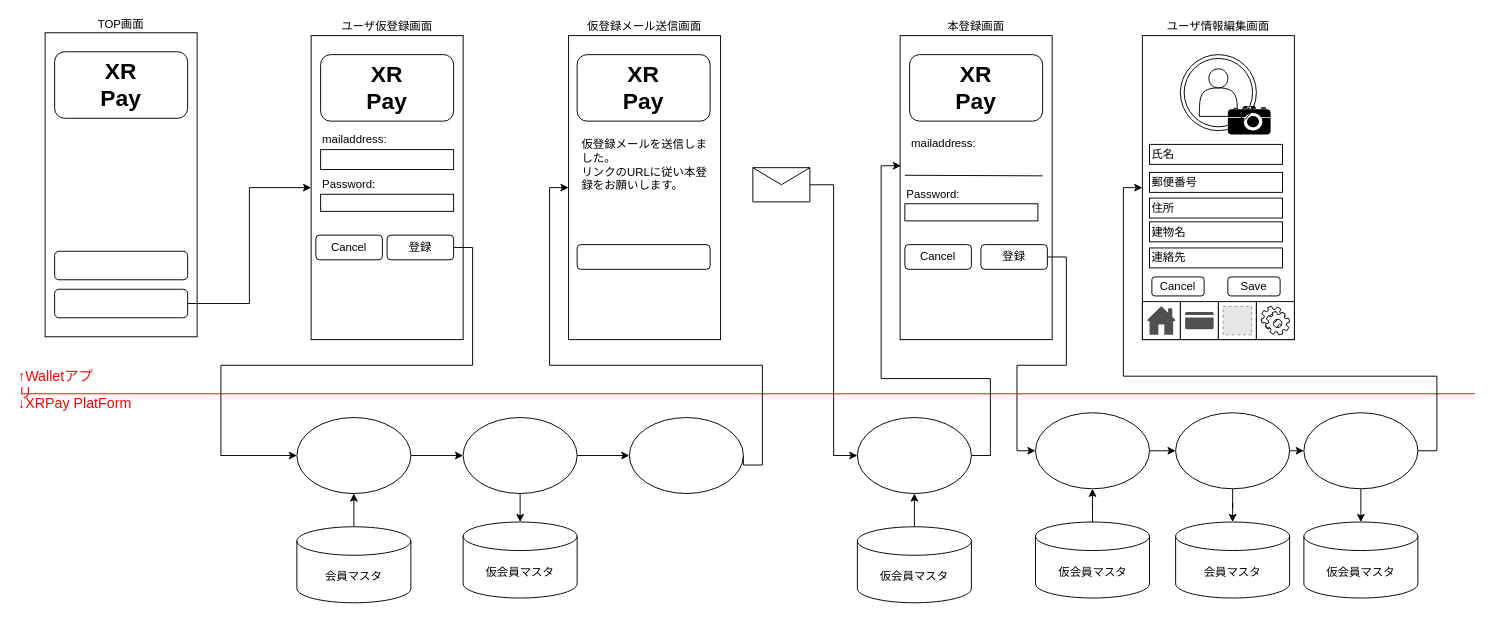
Some shapes in this 1492 by 619 pixel diagram are drawn without their labels. Grey dashed boxes stand in for pictures. The shapes that lost their labels are listed below. From the top down, each one's centre as x and y in pixels, then its label:
point (121, 265): ログイン
point (643, 256): 戻る
point (121, 303): 新規登録
point (353, 455): 重複確認
point (519, 455): 仮登録 トークン発行
point (685, 455): メール送付
point (913, 455): トークン期限確認
point (1092, 450): パスワード確認
point (1232, 450): 会員マスタ登録
point (1360, 450): 仮登録削除
